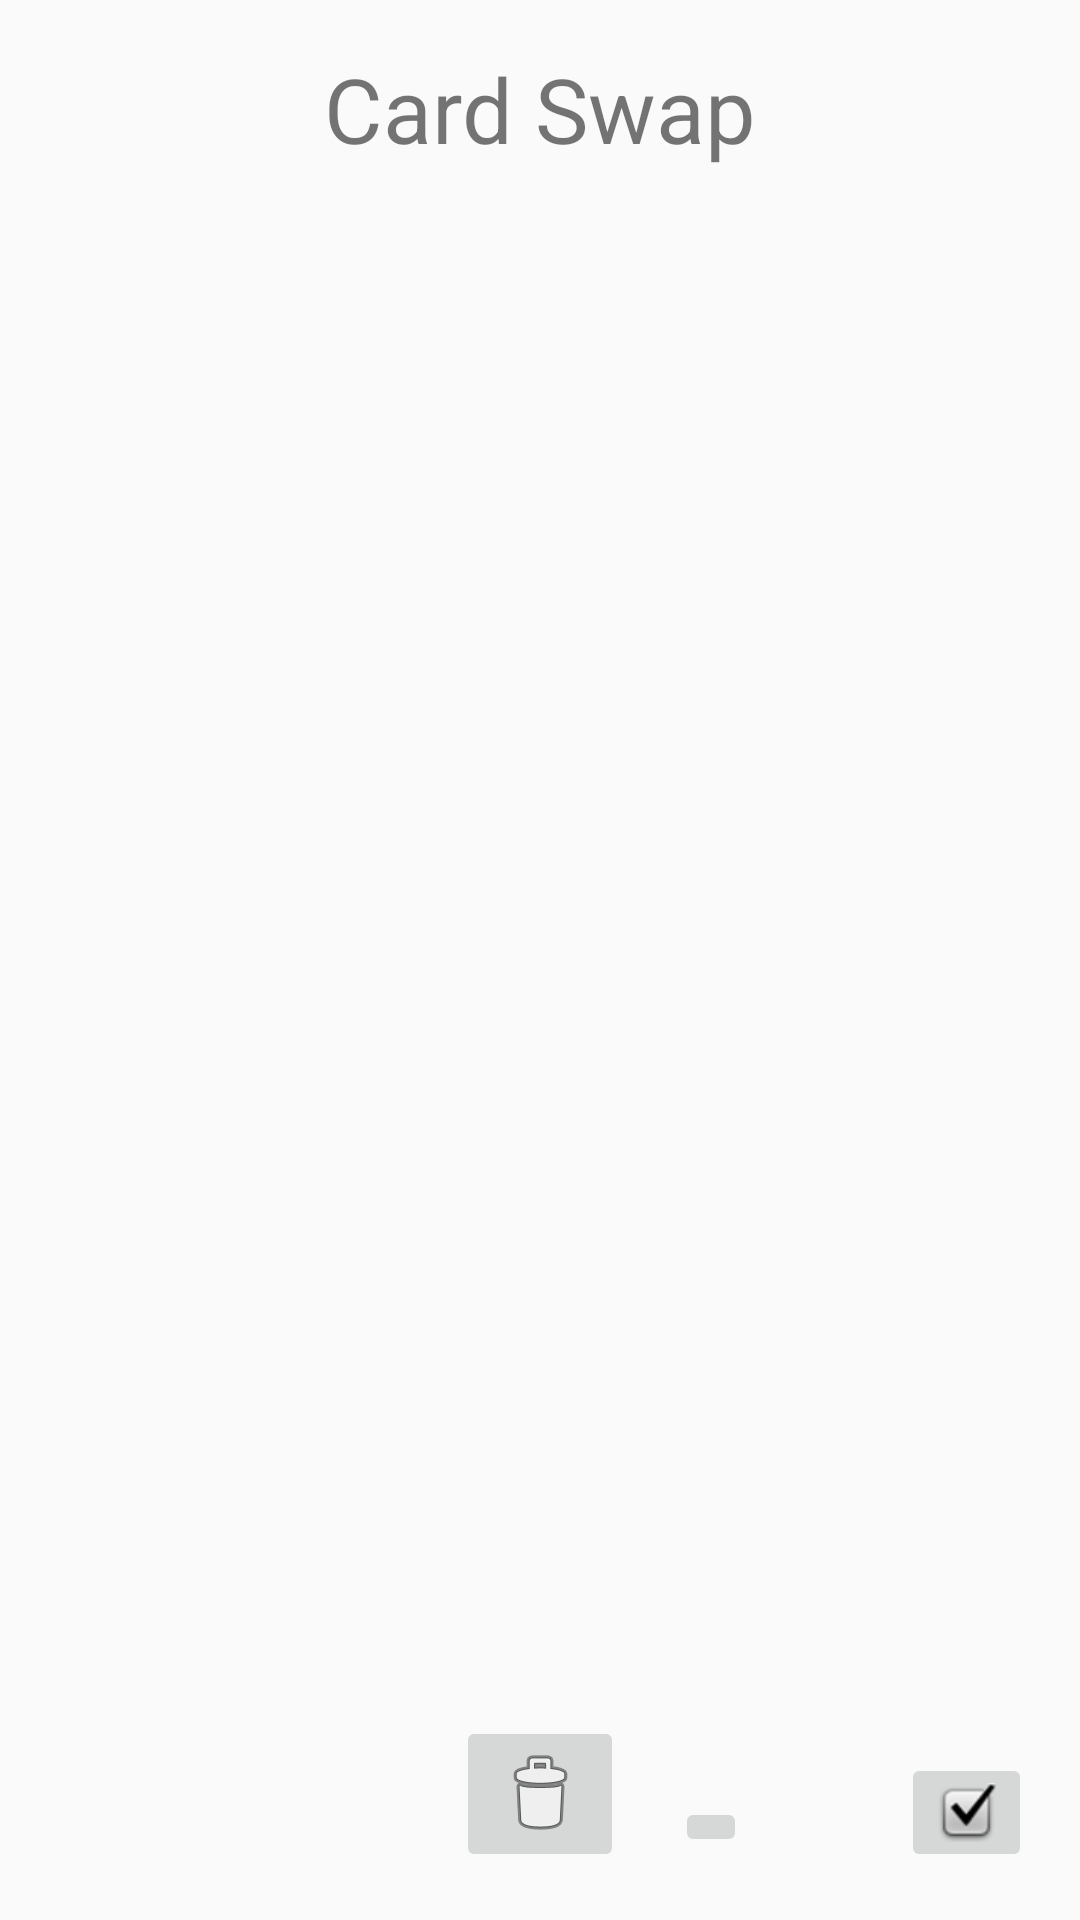

Icons on this 1080 x 1920 Android screen, each with its box as [left=x1, top=y1, right=x2, bottom=y2]:
delete: [left=468, top=1734, right=612, bottom=1854]
